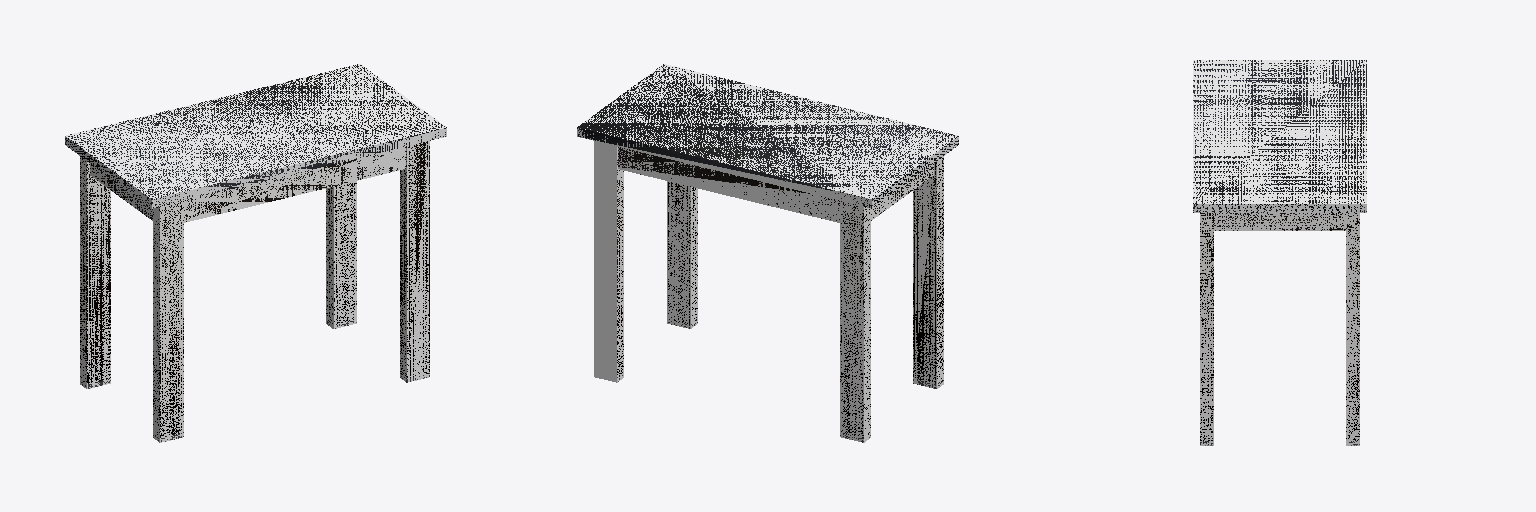
3 renders of one model, left to right at view 1: azimuth 30°, elevation 25°; view 2: azimuth 150°, elevation 25°; view 3: azimuth 270°, elevation 25°, orthographic.
Parts seen in each view (by area): view 1: mesh6_mesh6-geometry, mesh3_mesh3-geometry, mesh5_mesh5-geometry, mesh2_mesh2-geometry, mesh7_mesh7-geometry, mesh4_mesh4-geometry, mesh8_mesh8-geometry; view 2: mesh6_mesh6-geometry, mesh2_mesh2-geometry, mesh4_mesh4-geometry, mesh3_mesh3-geometry, mesh1_mesh1-geometry, mesh5_mesh5-geometry, mesh8_mesh8-geometry; view 3: mesh6_mesh6-geometry, mesh4_mesh4-geometry, mesh5_mesh5-geometry, mesh9_mesh9-geometry.
Part boxes in pixels (x1,y1,x2,y2): mesh6_mesh6-geometry: (65, 64, 446, 208); mesh3_mesh3-geometry: (153, 201, 183, 442); mesh5_mesh5-geometry: (400, 141, 429, 382); mesh2_mesh2-geometry: (80, 156, 110, 388); mesh7_mesh7-geometry: (184, 147, 405, 222); mesh4_mesh4-geometry: (326, 181, 356, 328); mesh8_mesh8-geometry: (90, 164, 152, 220); mesh6_mesh6-geometry: (577, 64, 958, 208); mesh2_mesh2-geometry: (840, 201, 870, 442); mesh4_mesh4-geometry: (594, 141, 623, 382); mesh3_mesh3-geometry: (913, 156, 943, 388); mesh1_mesh1-geometry: (618, 147, 839, 222); mesh5_mesh5-geometry: (667, 181, 697, 328); mesh8_mesh8-geometry: (871, 164, 933, 220); mesh6_mesh6-geometry: (1193, 60, 1366, 212); mesh4_mesh4-geometry: (1346, 213, 1359, 445); mesh5_mesh5-geometry: (1200, 213, 1213, 445); mesh9_mesh9-geometry: (1214, 213, 1345, 230).
Size of the model in its own units: 0.7235 by 0.583 by 0.3696.
Materials: 22 (19 with a texture image).